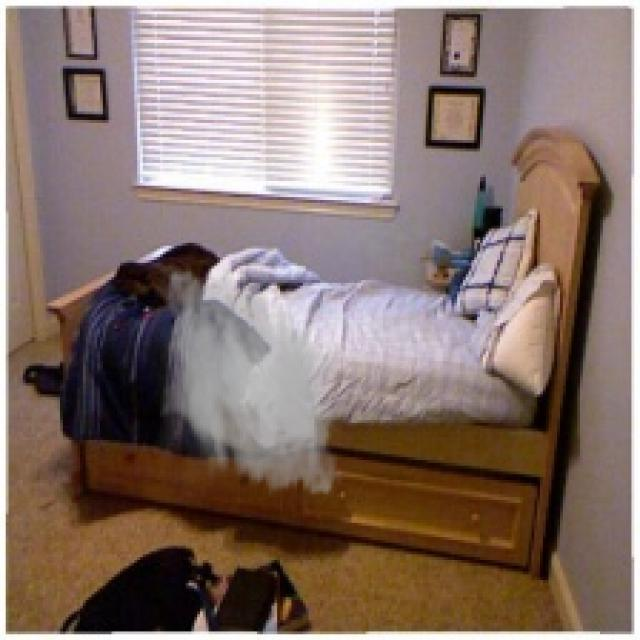Smoke: (146, 260, 352, 506)
